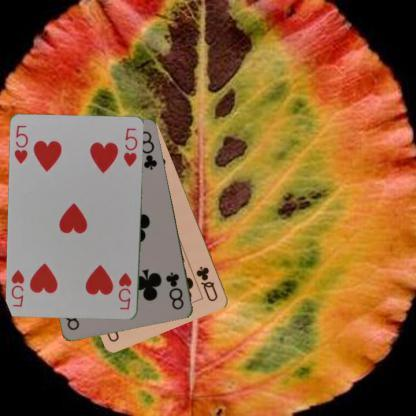5h: (12, 122, 30, 166), (116, 270, 134, 311)
8c: (164, 270, 186, 312)
Qc: (194, 264, 220, 303)
